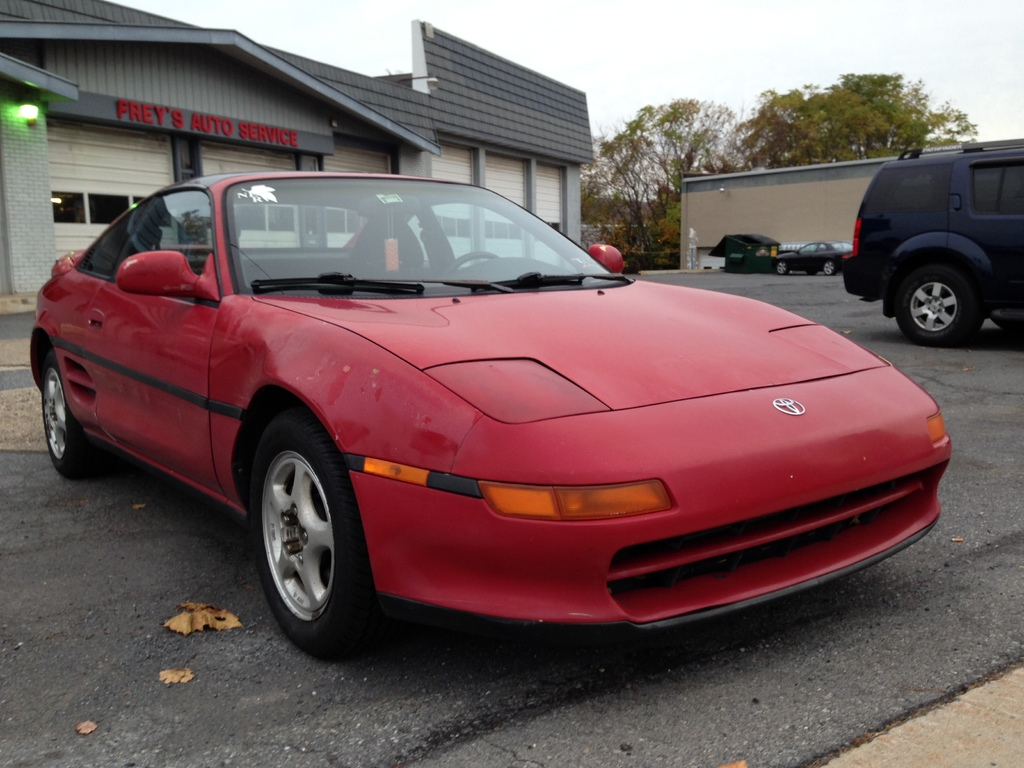cars: (34, 174, 951, 658), (841, 139, 1022, 346), (777, 243, 853, 274)
